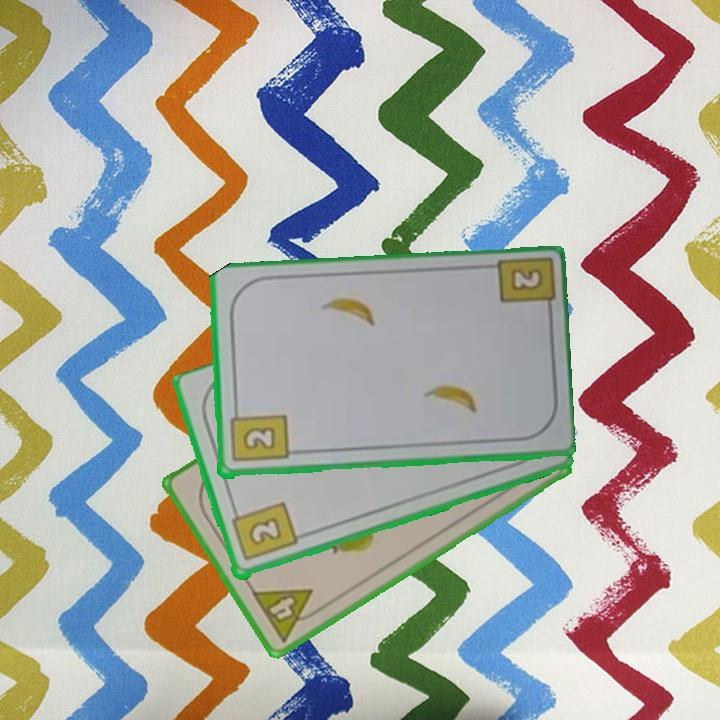2b: (227, 499, 300, 564), (226, 404, 290, 465), (506, 265, 542, 294)
4p: (248, 585, 326, 645)
